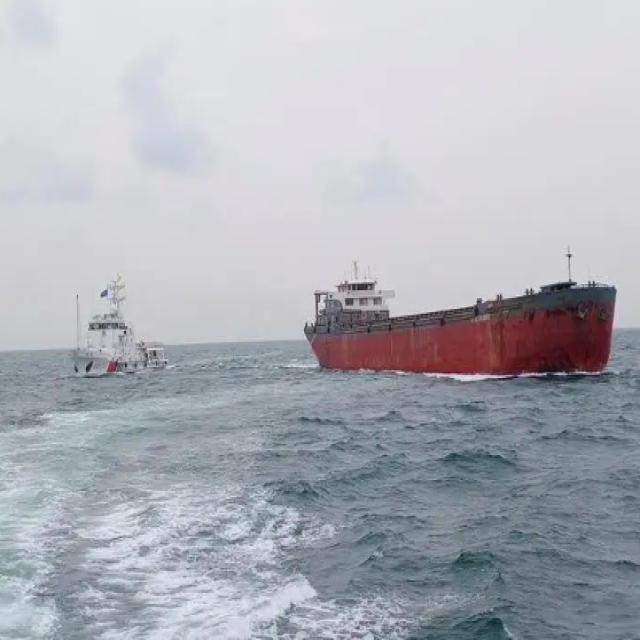cargoship: (303, 262, 621, 378)
houseboat: (61, 280, 168, 382)
